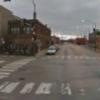crosswalks: (0, 80, 100, 96)
